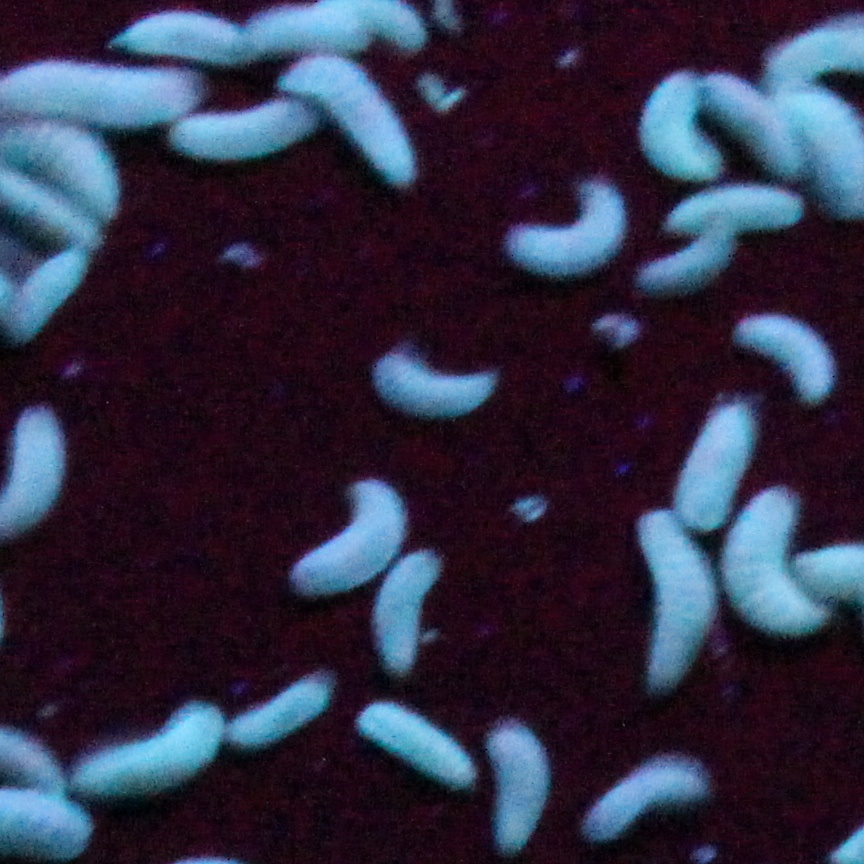larve: (613, 509, 718, 698), (81, 691, 223, 806), (582, 745, 710, 855), (363, 675, 469, 798), (506, 177, 626, 280), (470, 718, 555, 862), (338, 55, 418, 194), (285, 472, 382, 578), (629, 74, 722, 184), (729, 307, 833, 404), (369, 342, 496, 421), (228, 664, 330, 748), (110, 6, 251, 66), (729, 517, 798, 627), (183, 104, 319, 159), (645, 231, 736, 299), (385, 562, 442, 662), (695, 404, 745, 511), (2, 136, 110, 184), (735, 95, 795, 172), (262, 11, 353, 54), (5, 182, 75, 229), (365, 1, 420, 37)
